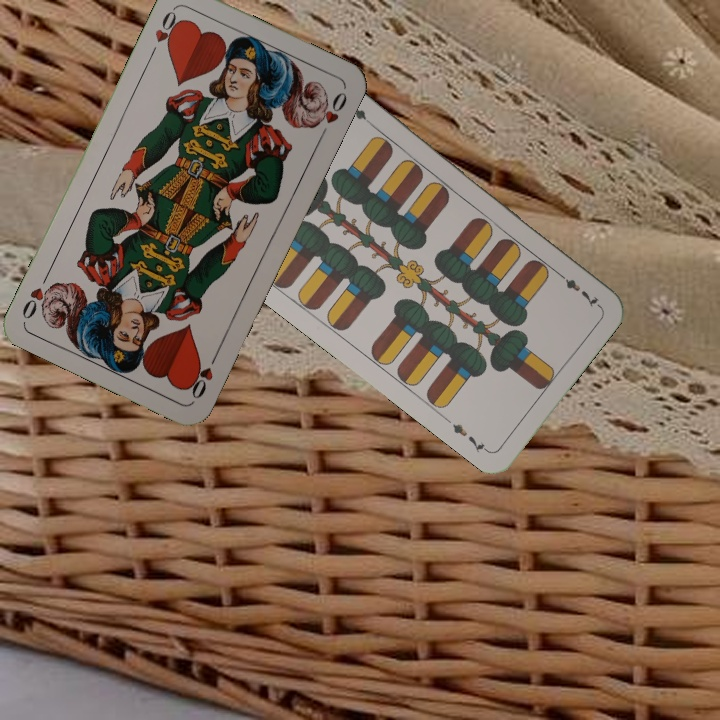E7: (552, 267, 602, 310)
HO: (145, 5, 184, 60), (184, 347, 222, 402)
